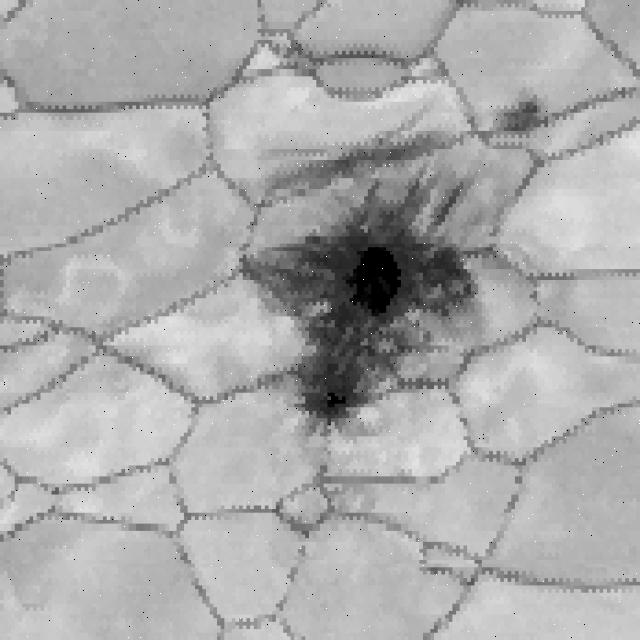good_void: (233, 164, 498, 441), (243, 106, 454, 208), (480, 89, 555, 142), (41, 477, 70, 503), (307, 458, 340, 480)
